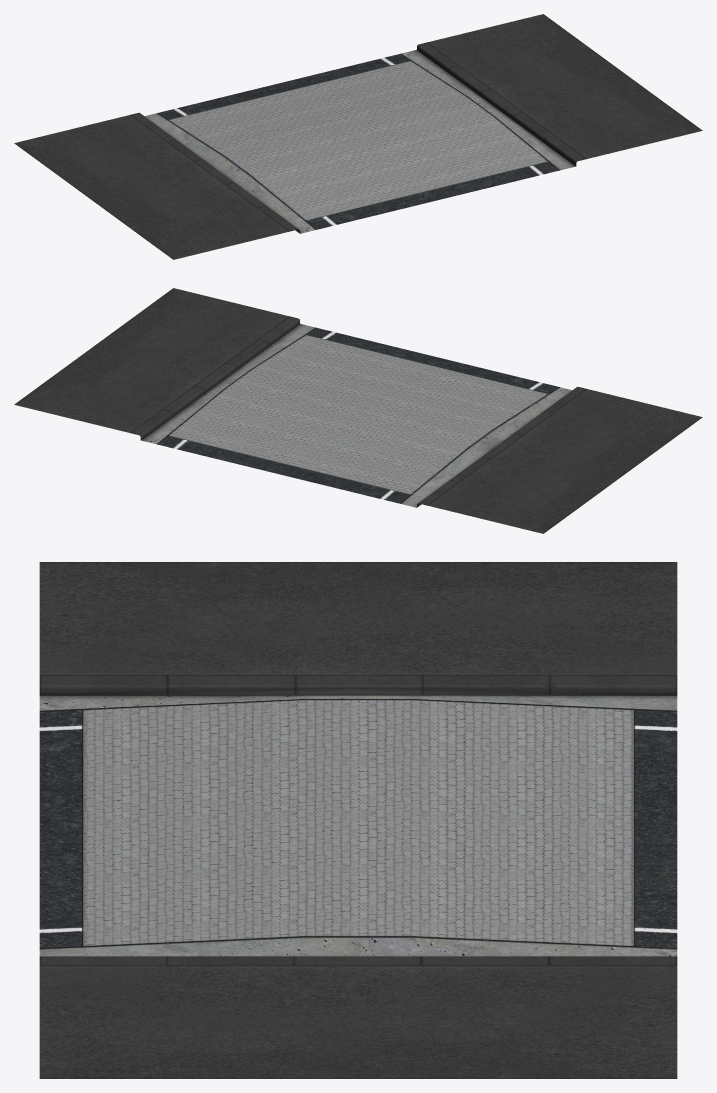
Rendered from city_bump1.fbx.
3 renders of one model, top to bottom at view 1: azimuth 30°, elevation 25°; view 2: azimuth 150°, elevation 25°; view 3: azimuth 270°, elevation 25°, orthographic. The views are drawn at different scales.
Visible parts, largest first — view 1: obj0; view 2: obj0; view 3: obj0.
Part boxes in pixels (left/top/right/bottom): obj0: left=14, top=14, right=702, bottom=259; obj0: left=14, top=288, right=702, bottom=533; obj0: left=39, top=562, right=677, bottom=1078.
Bounding box in the file's own units: 29.21 × 0.3175 × 15.24.
